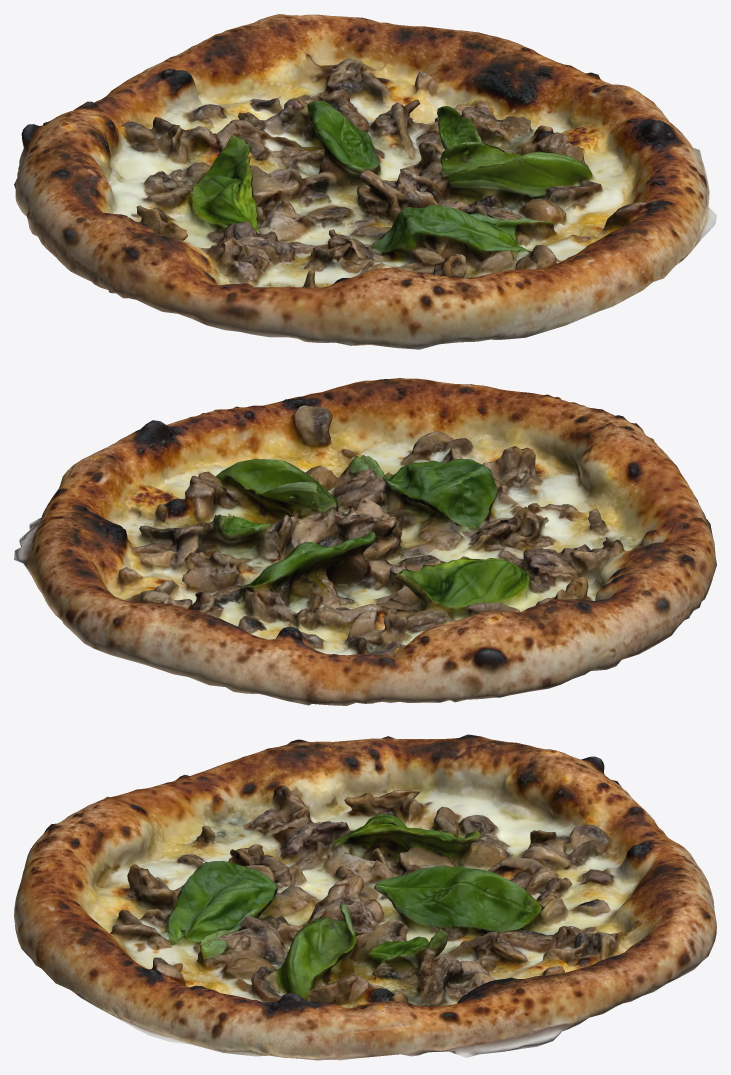
Rendered from mantarli.glb.
3 views of the same model, one above another, from view 1: azimuth 30°, elevation 25°; view 2: azimuth 150°, elevation 25°; view 3: azimuth 270°, elevation 25° (orthographic). The views are drawn at different scales.
Bounding box in the file's own units: 0.8851 × 0.1045 × 0.9037.
Materials: 1 (1 with a texture image).
